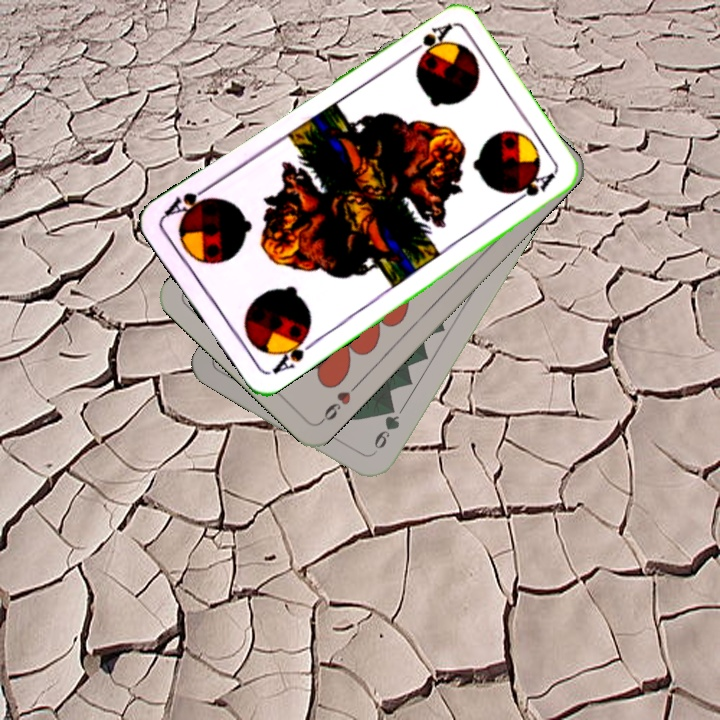G9: (367, 401, 403, 457)
H9: (316, 379, 361, 426)
SA: (267, 328, 319, 377), (402, 19, 455, 61)
